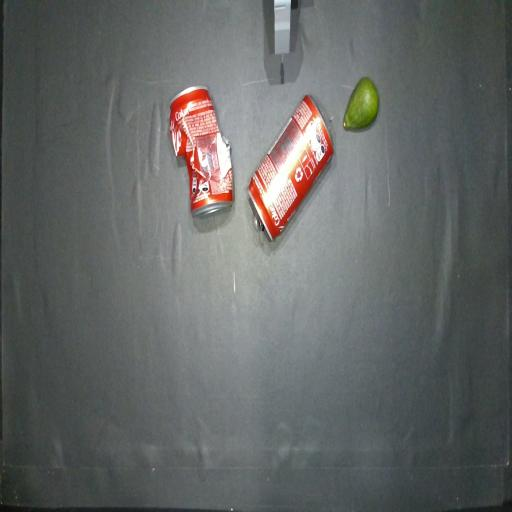higo: (343, 77, 379, 129)
lata: (249, 95, 333, 239)
lata_defectuoso: (169, 86, 233, 216)
